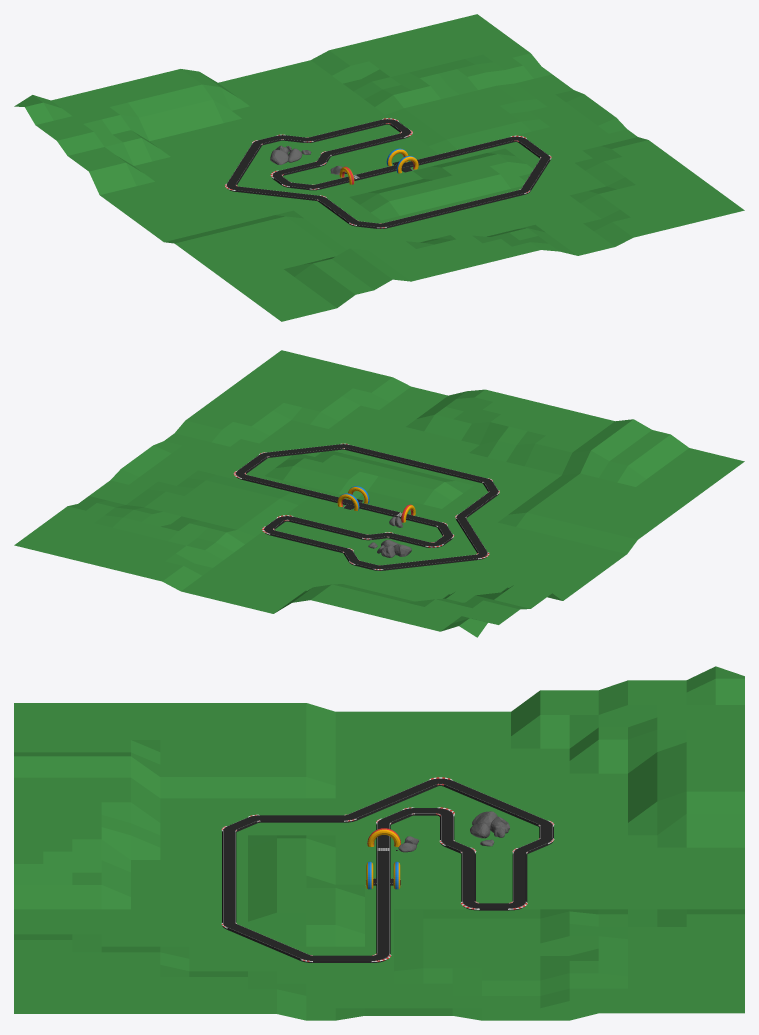
File: track.fbx
3 views of the same model, one above another, from view 1: azimuth 30°, elevation 25°; view 2: azimuth 150°, elevation 25°; view 3: azimuth 270°, elevation 25° (orthographic). The views are drawn at different scales.
Parts seen in each view (by area): view 1: Plane, Track1_0Degrees.016, Track1_0Degrees.015, Track1_0Degrees.009; view 2: Plane, Track1_0Degrees.016, Track1_0Degrees.015, Track1_0Degrees.014, Track1_0Degrees.008, Track1_0Degrees.006; view 3: Plane, Track1_0Degrees.016, Track1_0Degrees.015, Track1_0Degrees.009, Track1_0Degrees.014, Track1_0Degrees.017, Track1_0Degrees.008, Track1_0Degrees.006, Track1_0Degrees.012.
Part boxes in pixels (x1,y1,x2,y2): Plane: (14, 14, 744, 321); Track1_0Degrees.016: (360, 137, 514, 178); Track1_0Degrees.015: (382, 190, 524, 228); Track1_0Degrees.009: (235, 186, 318, 200); Plane: (14, 350, 744, 637); Track1_0Degrees.016: (241, 475, 395, 515); Track1_0Degrees.015: (344, 445, 486, 482); Track1_0Degrees.014: (396, 554, 477, 568); Track1_0Degrees.008: (270, 530, 346, 552); Track1_0Degrees.006: (289, 517, 366, 539); Plane: (14, 666, 744, 1020); Track1_0Degrees.016: (376, 854, 390, 953); Track1_0Degrees.015: (222, 831, 236, 922); Track1_0Degrees.009: (348, 780, 437, 820); Track1_0Degrees.014: (443, 781, 532, 819); Track1_0Degrees.017: (227, 924, 309, 960); Track1_0Degrees.008: (512, 853, 527, 902); Track1_0Degrees.006: (461, 852, 475, 901); Track1_0Degrees.012: (260, 815, 343, 822).
Bounding box in the file's own units: 341 × 30.19 × 341.
